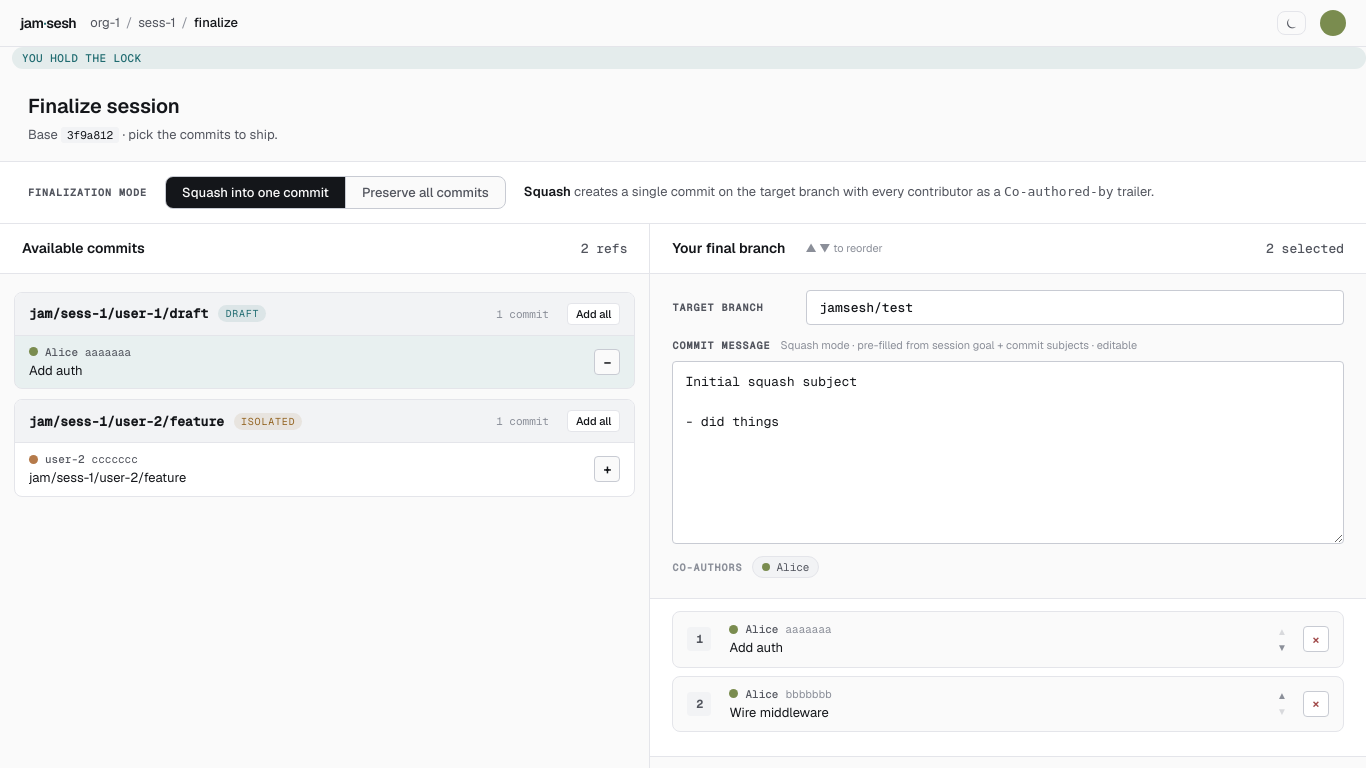
Test case: FinalizeView › 5. successive toggles within debounce window → single PATCH with final state
The image size is (1366, 768).
Expected: the text "2 selected" is shown, [1266,240,1344,256]
Note: Remove both in quick succession
Click the button named "remove from cart": [1316, 639] box [1303,626,1329,652]
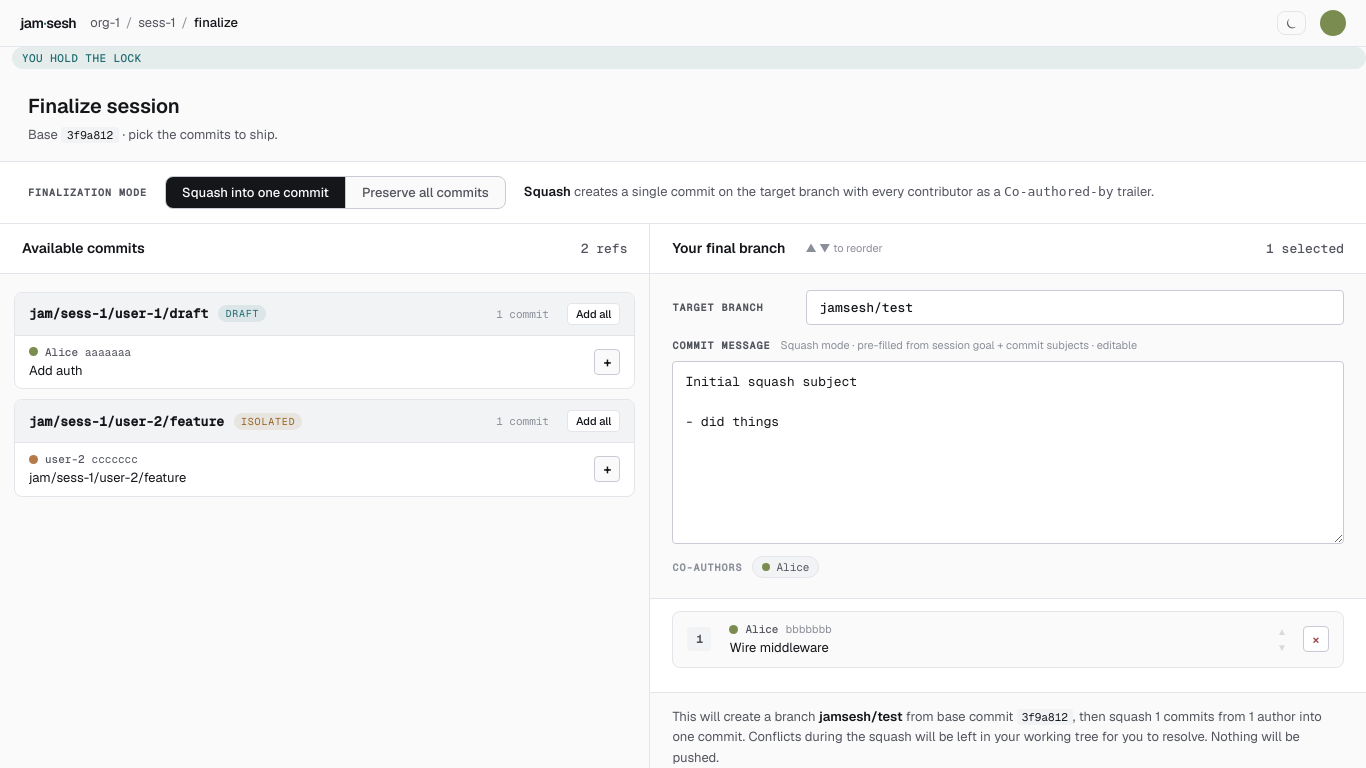
Click the button named "remove from cart": [1316, 639] box [1303,626,1329,652]
Wait 310 ms
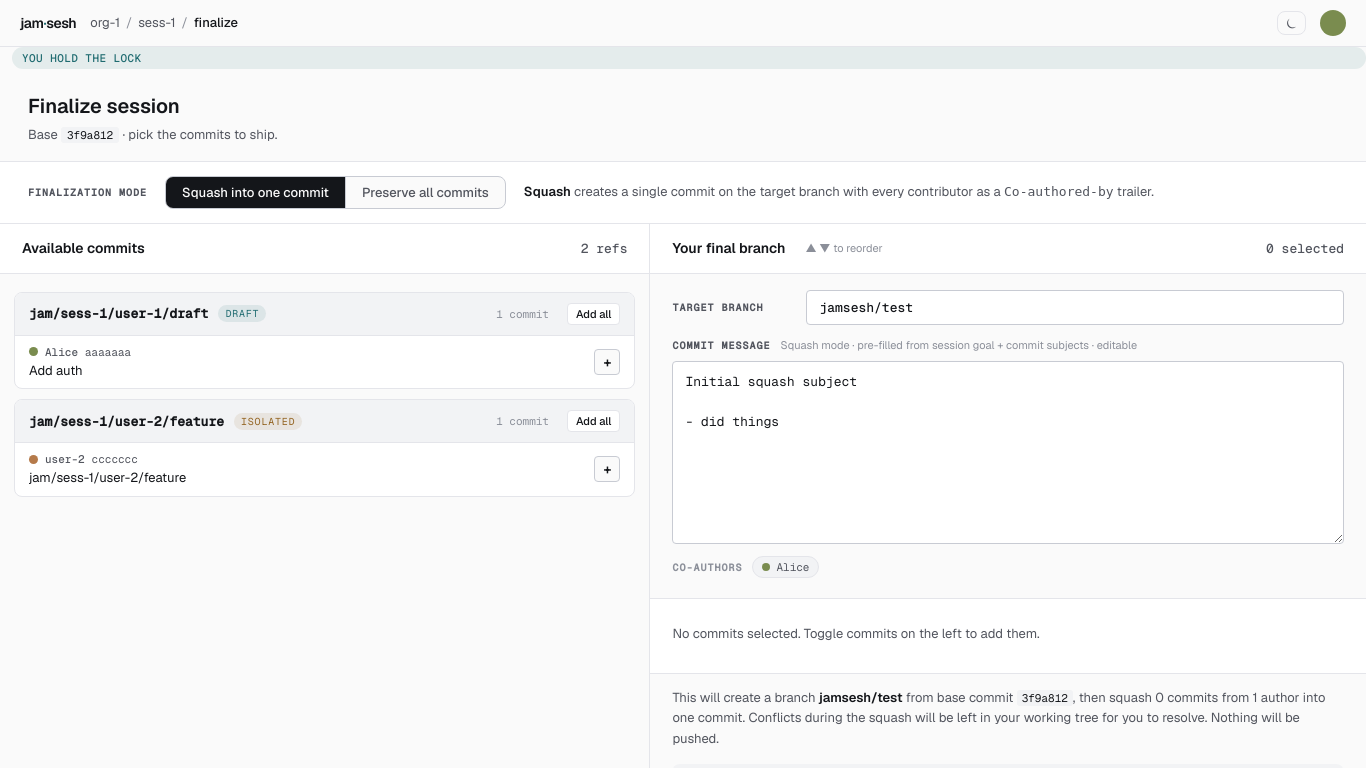
Now the text "0 selected" is shown, box [1266,240,1344,256]
